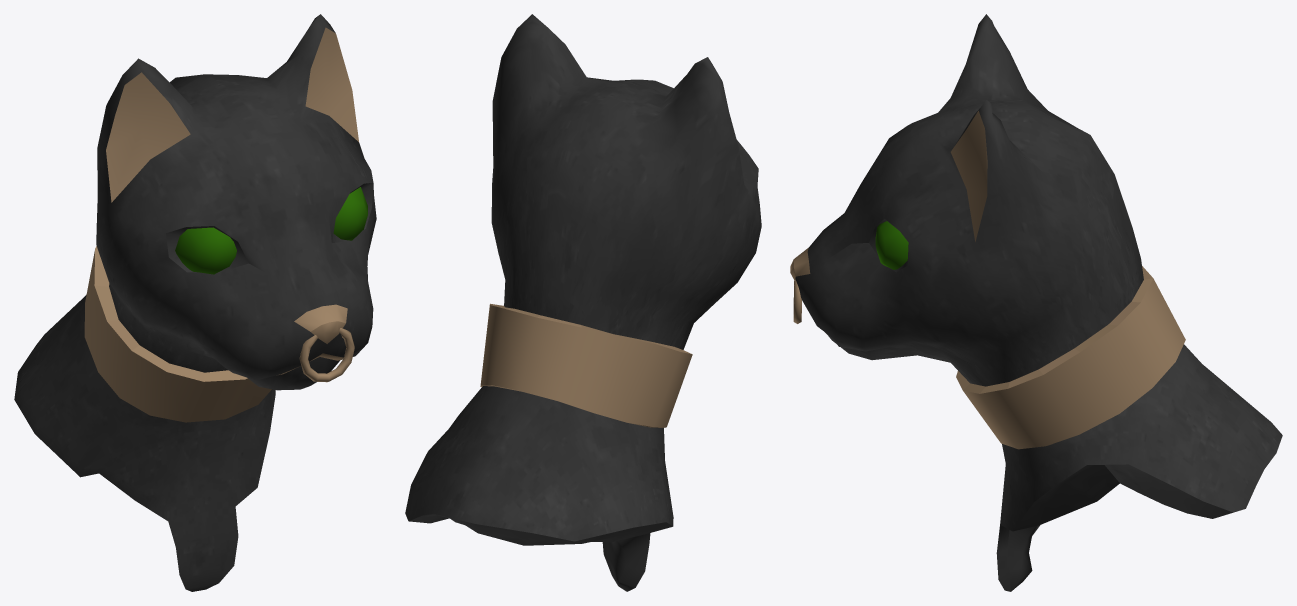
The model's file is god-bastet-art.glb.
The picture shows the model from 3 angles, left to right: view 1: azimuth 30°, elevation 25°; view 2: azimuth 150°, elevation 25°; view 3: azimuth 270°, elevation 25°; orthographic projection. The views are drawn at different scales.
Parts seen in each view (by area): view 1: GodBastet_Art; view 2: GodBastet_Art; view 3: GodBastet_Art.
Boxes of the visible parts, <box> form: GodBastet_Art: <box>14,14,376,591</box>; GodBastet_Art: <box>405,14,761,591</box>; GodBastet_Art: <box>790,14,1282,591</box>.
Size of the model in its own units: 0.8084 by 1.75 by 1.44.
2 materials, 1 textured.
